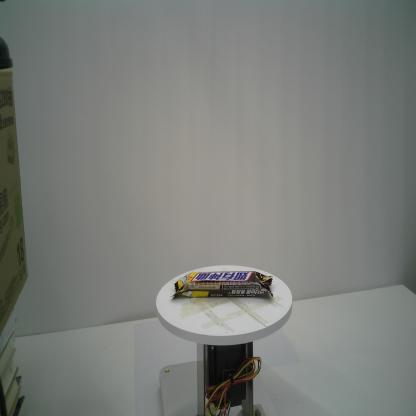Chocolate: (170, 271, 274, 298)
